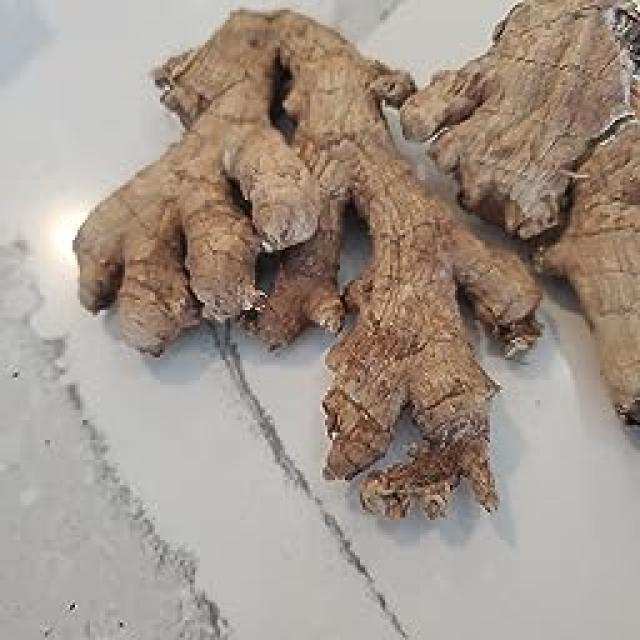ginger: (85, 41, 626, 511)
